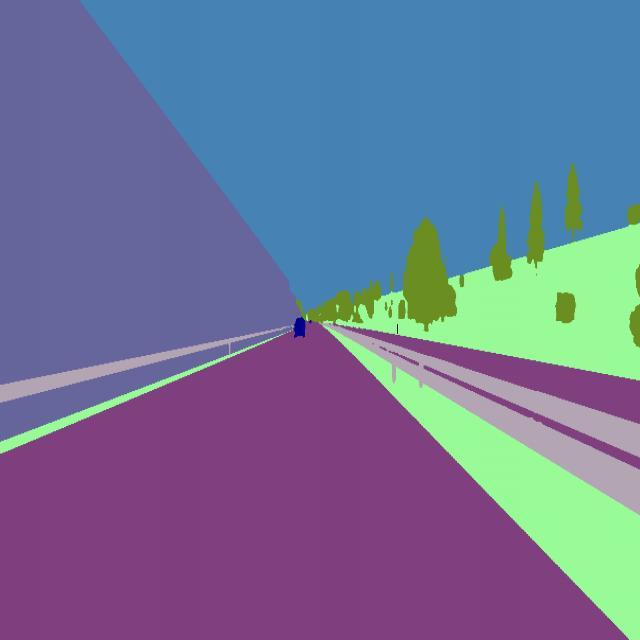safe: (291, 312, 309, 344)
